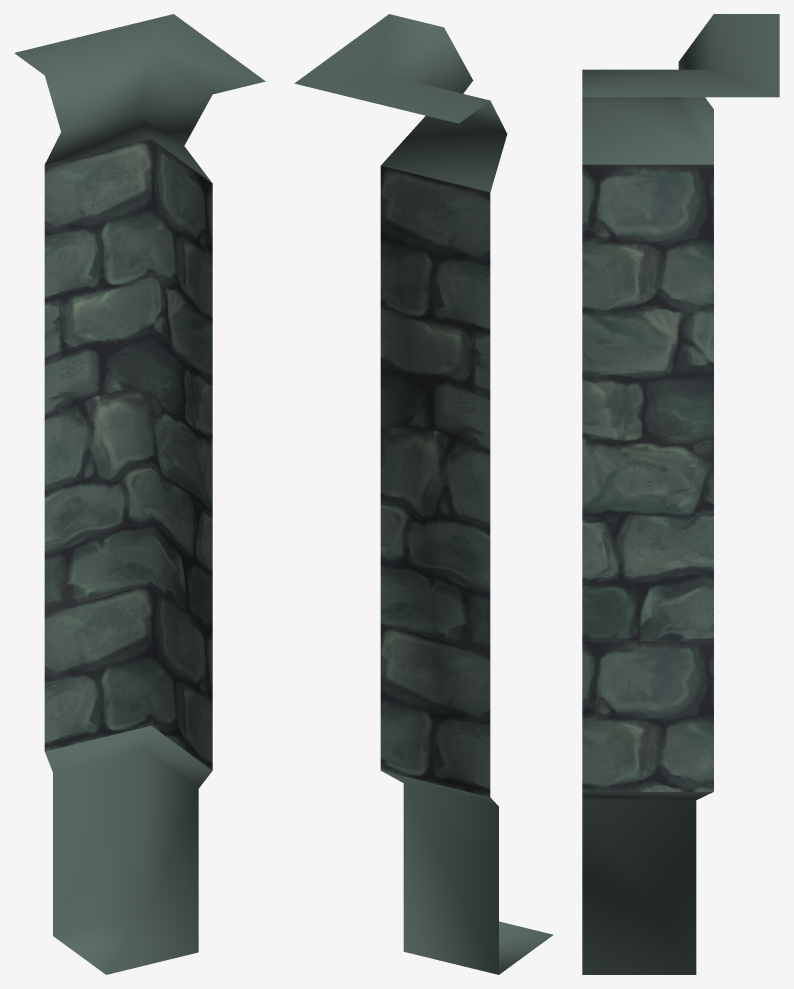
File: wall6.fbx
3 views of the same model, side by side, from view 1: azimuth 30°, elevation 25°; view 2: azimuth 150°, elevation 25°; view 3: azimuth 270°, elevation 25° (orthographic). The views are drawn at different scales.
Visible parts, largest first — view 1: stone, trim; view 2: stone, trim; view 3: stone, trim.
Boxes of the visible parts, x1=… form: stone: x1=44, y1=139, x2=212, y2=770; trim: x1=14, y1=14, x2=265, y2=974; stone: x1=380, y1=166, x2=490, y2=796; trim: x1=294, y1=14, x2=553, y2=974; stone: x1=582, y1=164, x2=713, y2=791; trim: x1=582, y1=14, x2=779, y2=974.
Size of the model in its own units: 22.5 by 115 by 22.5.
